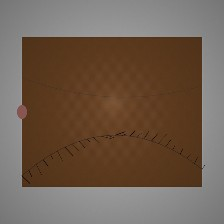pinguecula_lesion: (150, 89, 197, 126)
